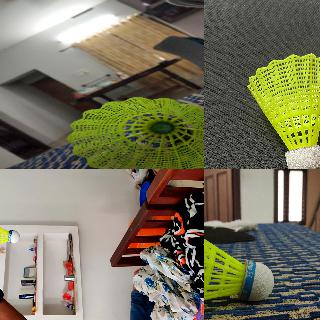shuttlecock: (67, 96, 203, 168), (247, 53, 319, 168), (204, 214, 274, 312), (0, 218, 20, 248)
